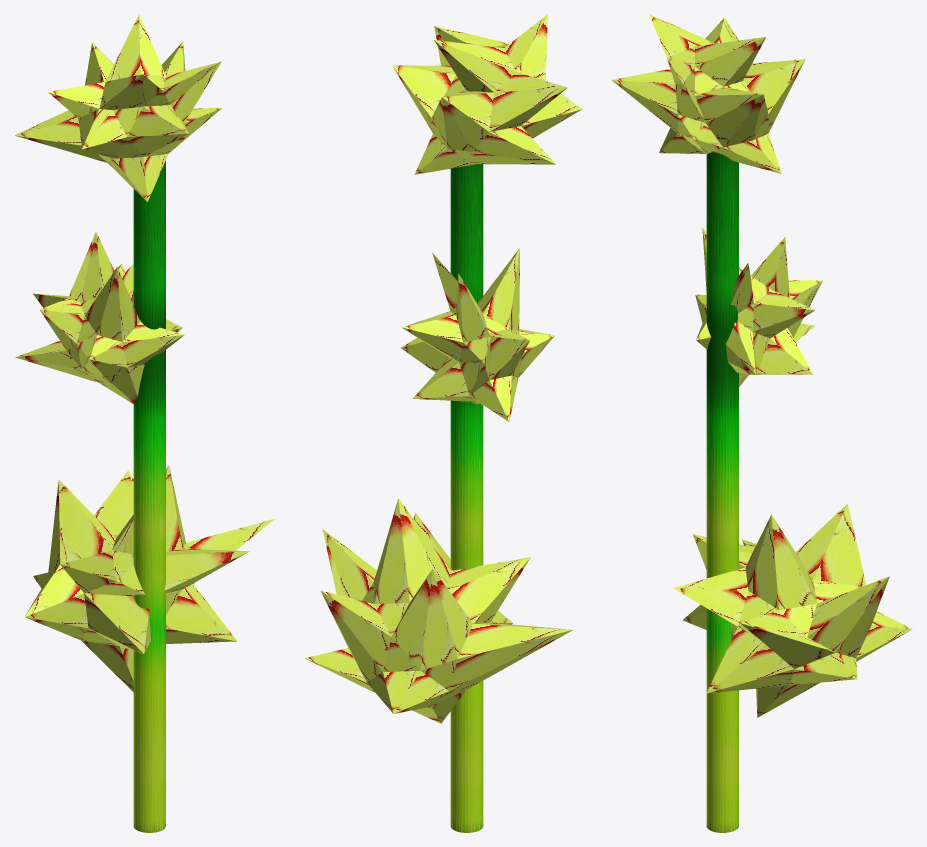
The model's file is inlandsedge.dae.
3 renders of one model, left to right at view 1: azimuth 30°, elevation 25°; view 2: azimuth 150°, elevation 25°; view 3: azimuth 270°, elevation 25°, orthographic.
Parts seen in each view (by area): view 1: Icosphere_002; view 2: Icosphere_002; view 3: Icosphere_002.
Part boxes in pixels (box(x1,y1,x2,y2)): Icosphere_002: box(14, 14, 275, 832); Icosphere_002: box(304, 14, 582, 832); Icosphere_002: box(612, 14, 912, 832).
Size of the model in its own units: 2.24 by 2.33 by 6.78.
Materials: 4 (4 with a texture image).
